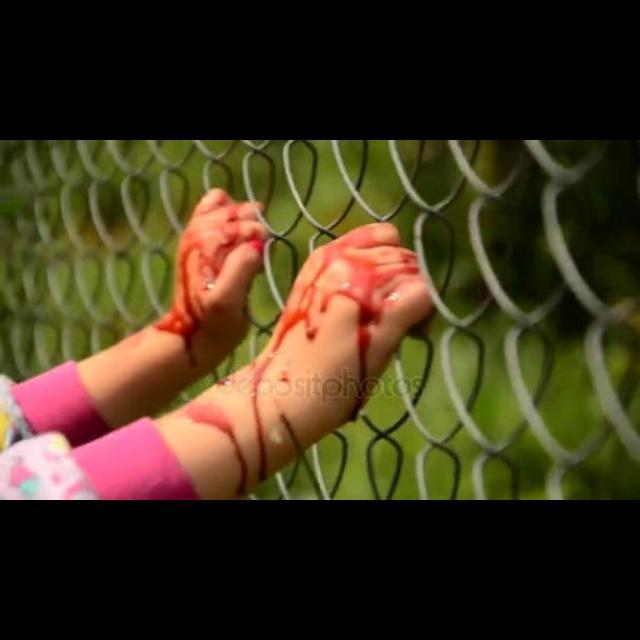blood: (218, 225, 420, 482), (154, 189, 267, 365), (184, 400, 251, 496), (280, 413, 304, 456)
